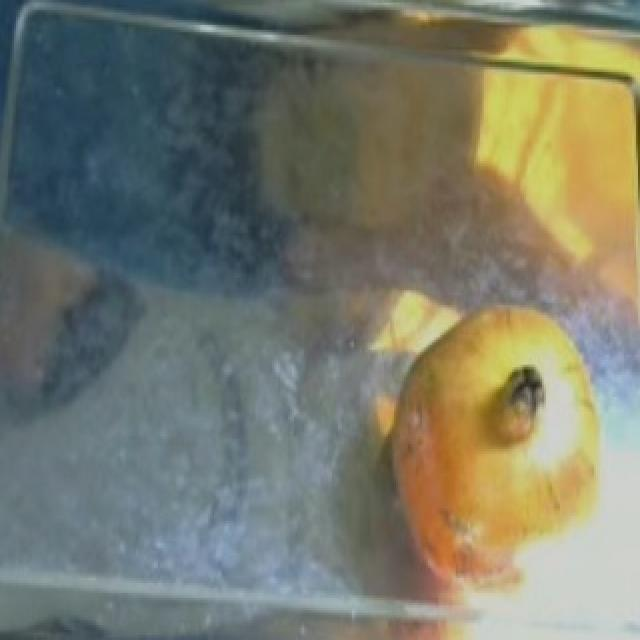fruit: (366, 280, 636, 506)
